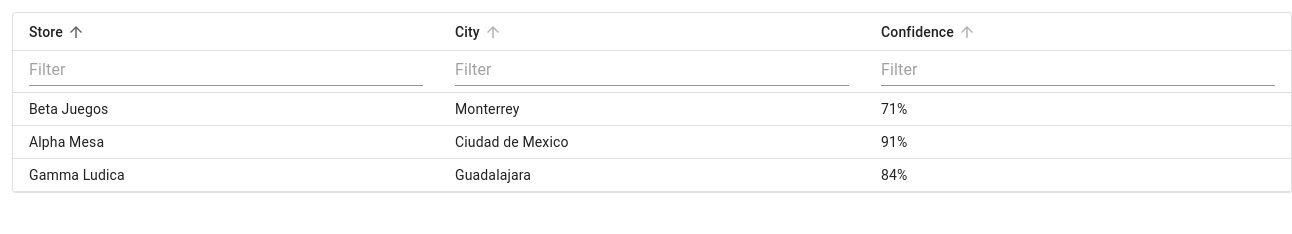
Test: DataTable › updates controlled server-side table state without render-phase parent updates
Step 1. Type "mexico" into the field named "Filter City" → (652, 72), box [455,57,849,86]
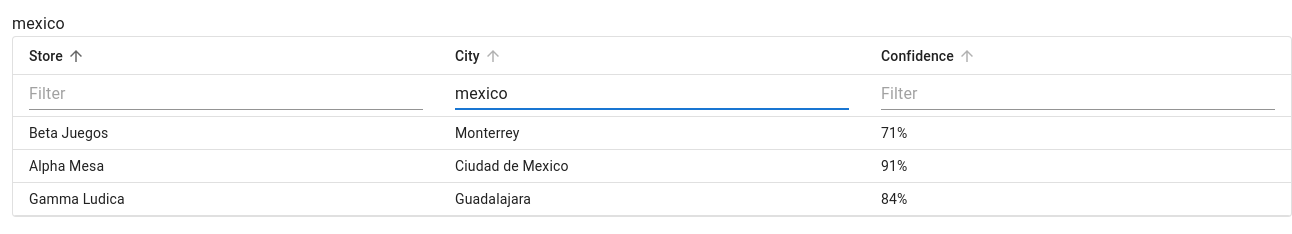
Result: the text named "City filter state" reads "mexico" at [12,14,65,33]
